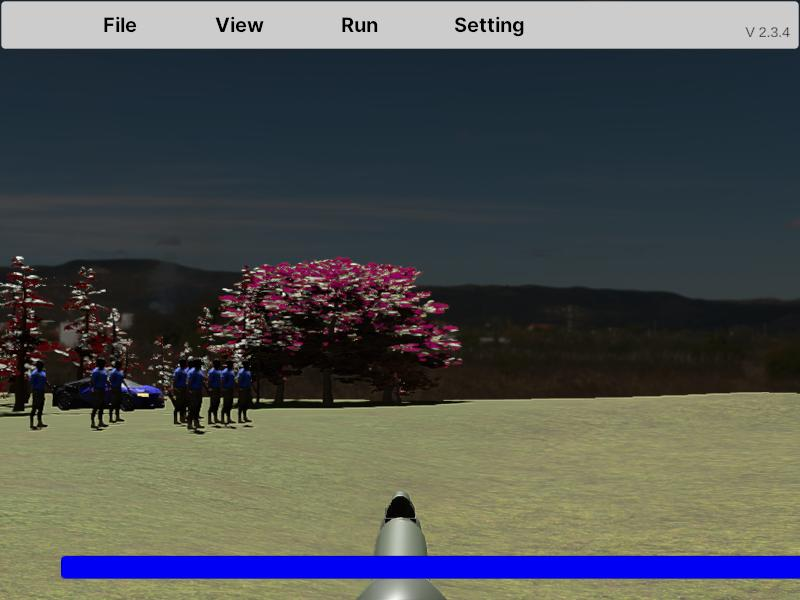Human: (183, 356, 210, 432), (90, 356, 113, 428), (28, 360, 51, 430), (106, 357, 130, 424), (233, 359, 257, 425), (219, 357, 240, 425), (205, 356, 224, 426)
car: (53, 375, 166, 412)
